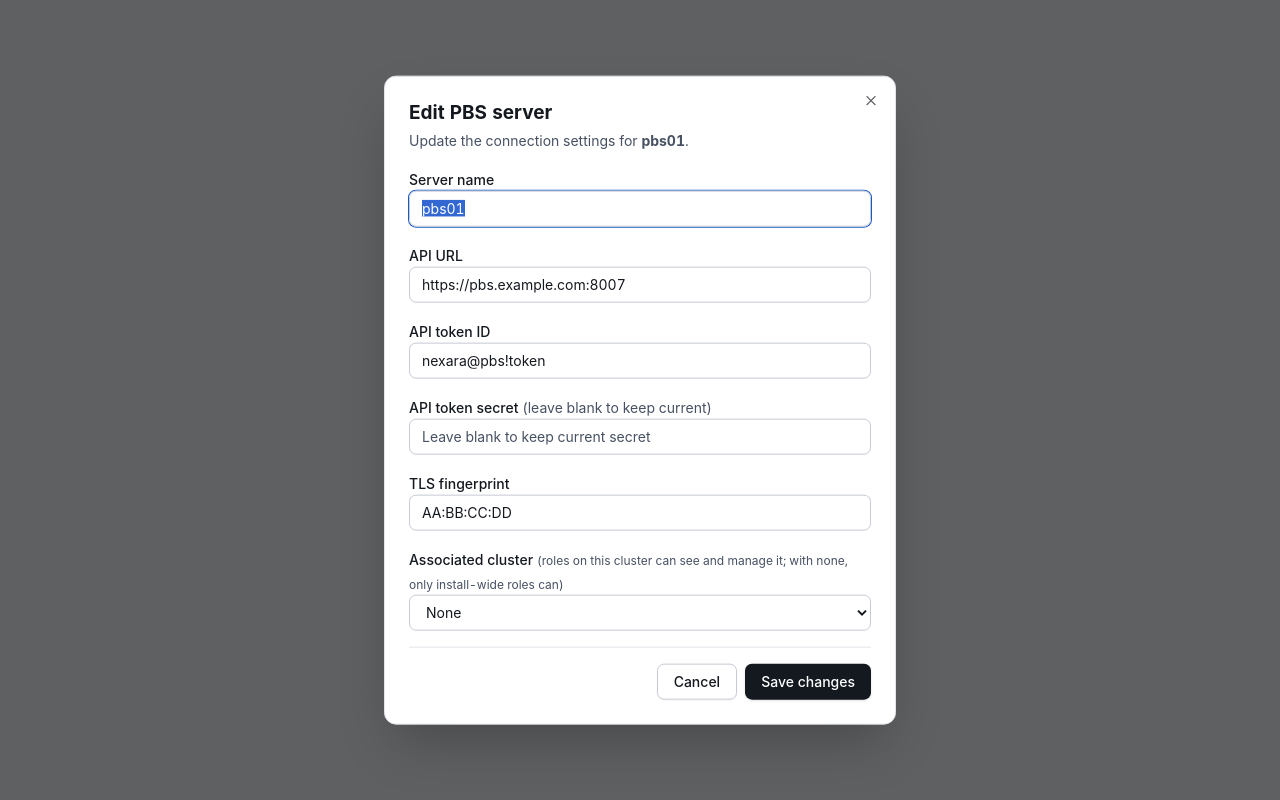
a failed save › is shown once, in place: backup: Edit PBS server
Step 1. Click the button "Save changes" → (808, 681), box top-left (745, 663), bottom-right (871, 699)
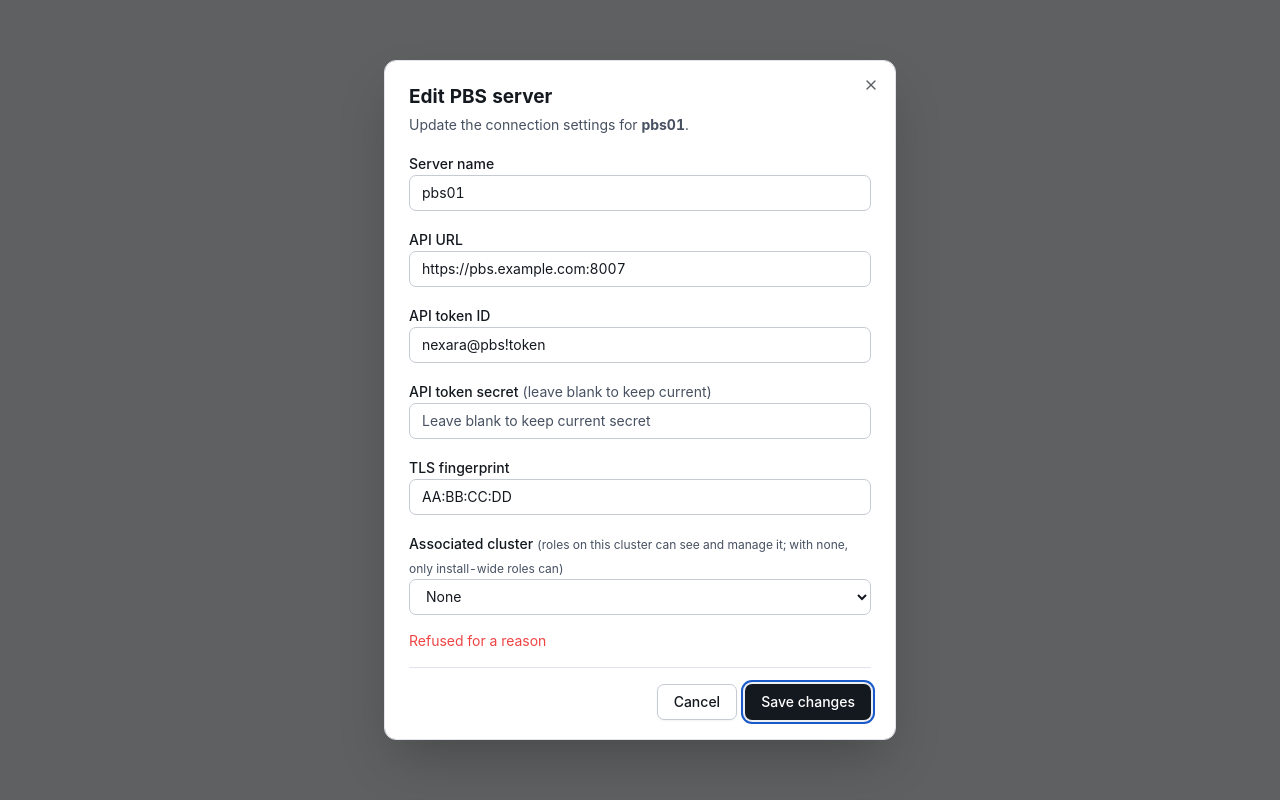
Check: the text "Refused for a reason" is shown, box top-left (409, 632), bottom-right (546, 649)
